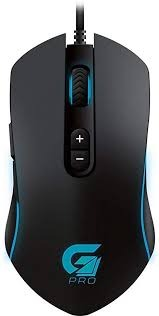mouse: (3, 29, 159, 316)
